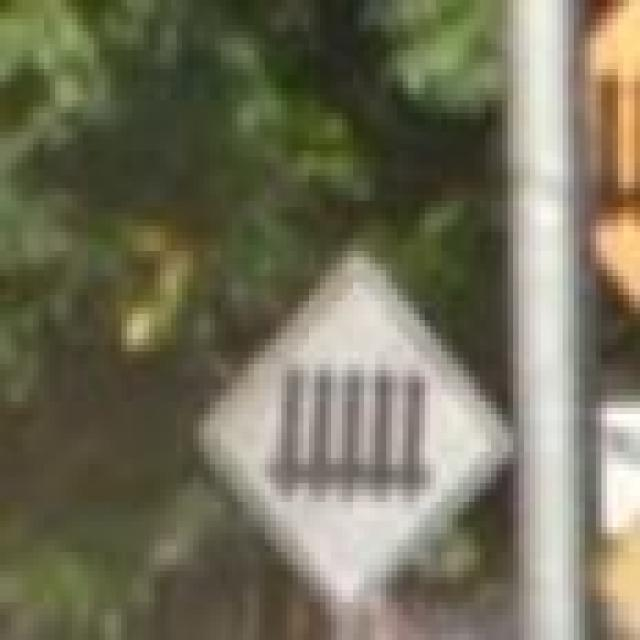traffic sign: (210, 264, 508, 609)
